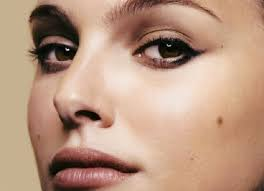mole: (210, 111, 226, 127), (33, 131, 43, 143)
